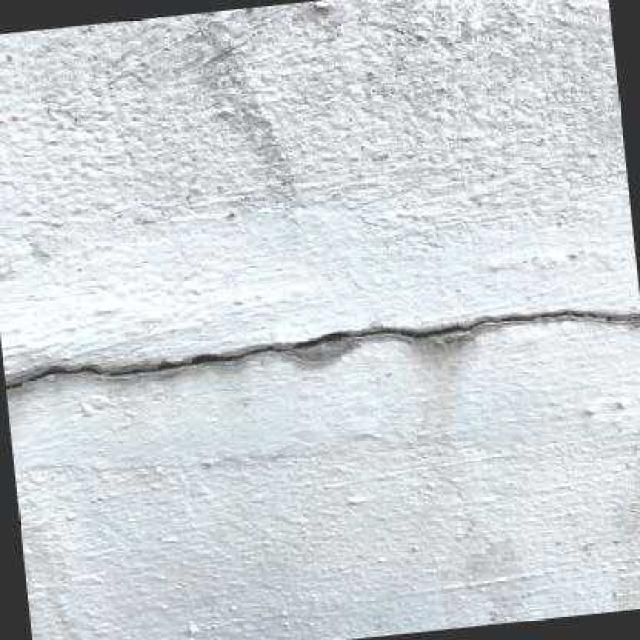D00: (5, 308, 640, 390)
